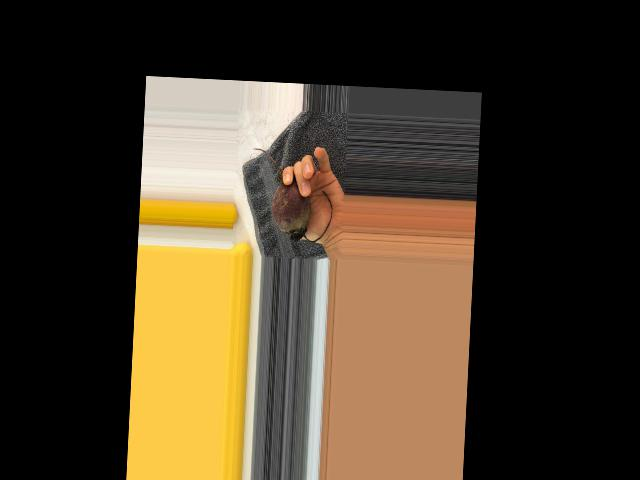beet: (249, 148, 335, 242)
